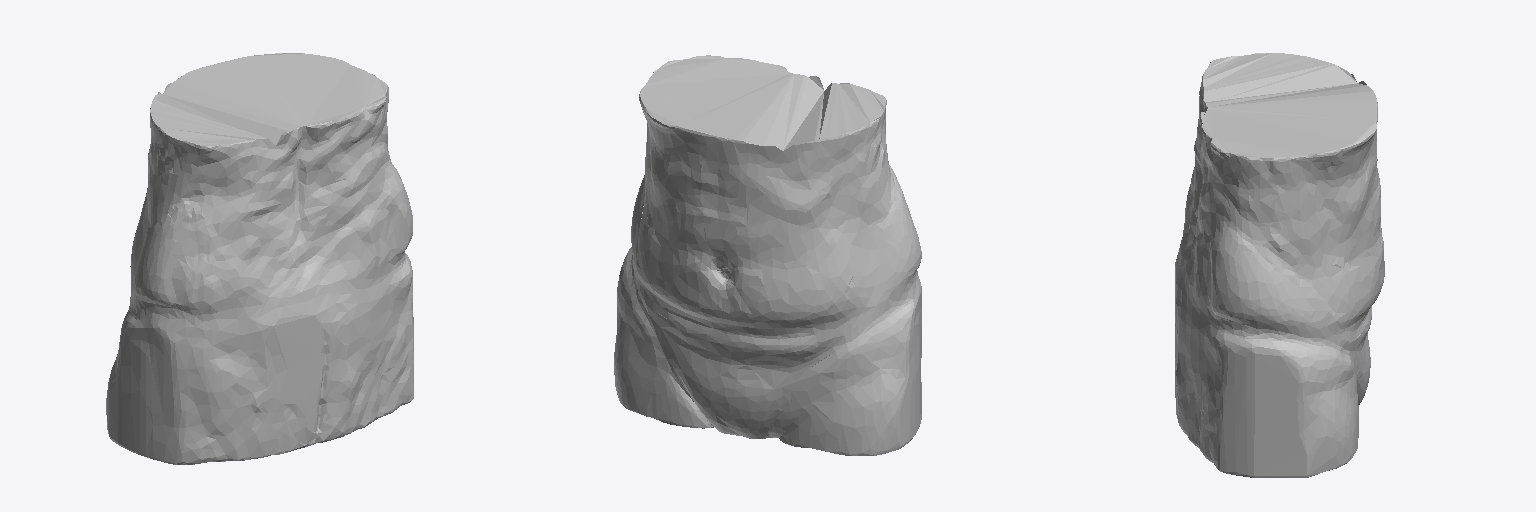
File: KV1_body_reduced.obj
3 renders of one model, left to right at view 1: azimuth 30°, elevation 25°; view 2: azimuth 150°, elevation 25°; view 3: azimuth 270°, elevation 25°, orthographic.
Visible parts, largest first — view 1: Body_Outside.001; view 2: Body_Outside.001; view 3: Body_Outside.001.
Boxes of the visible parts, box(x1,y1,x2,y2) form: Body_Outside.001: box(106, 53, 413, 464); Body_Outside.001: box(614, 55, 921, 455); Body_Outside.001: box(1175, 53, 1384, 477).
Bounding box in the file's own units: 352 × 373 × 228.